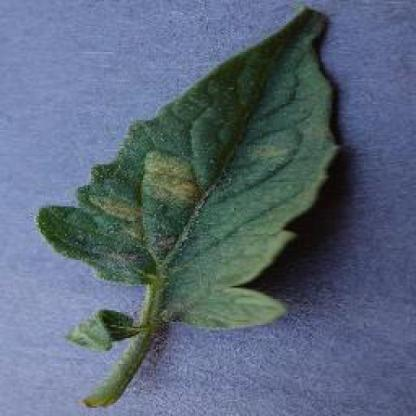Tomato_Leaf_Mold: (42, 8, 340, 291)
